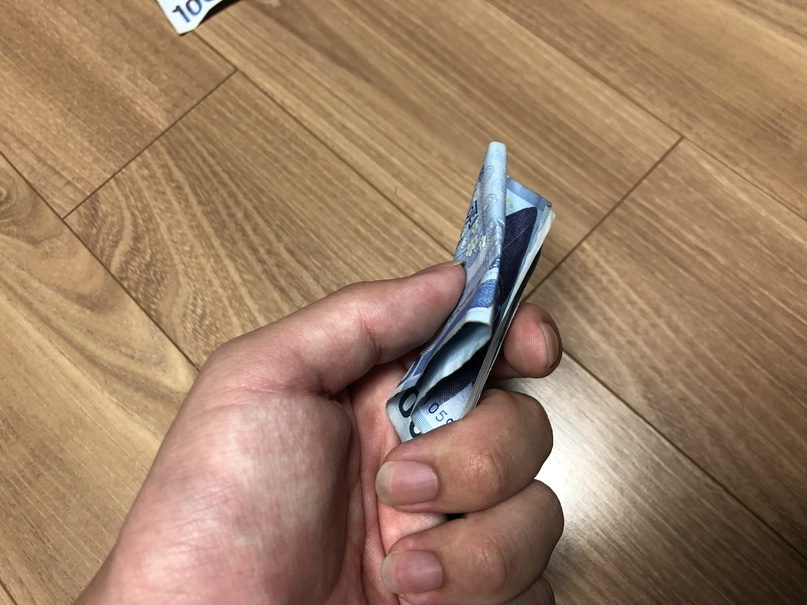1000won: (387, 142, 557, 445)
